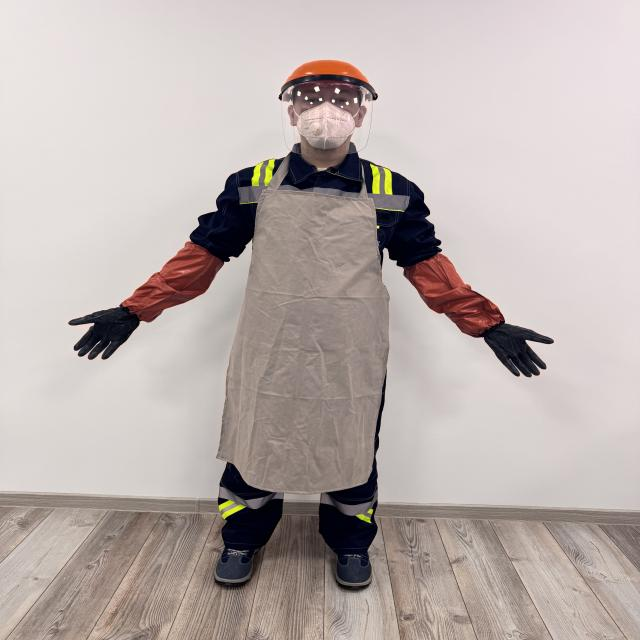Gloves: (51, 306, 151, 362), (473, 316, 562, 376)
Helmet: (274, 62, 381, 154)
Mask: (293, 106, 362, 152)
Protective apron: (214, 153, 392, 486)
Safety Shoes: (206, 545, 272, 587), (321, 550, 382, 589)
Sleeve: (384, 238, 506, 339), (122, 237, 228, 328)
